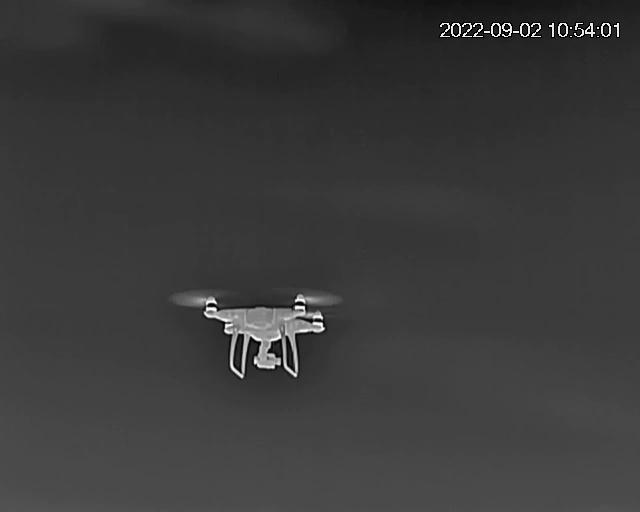DJI-Phantom: (171, 289, 351, 378)
